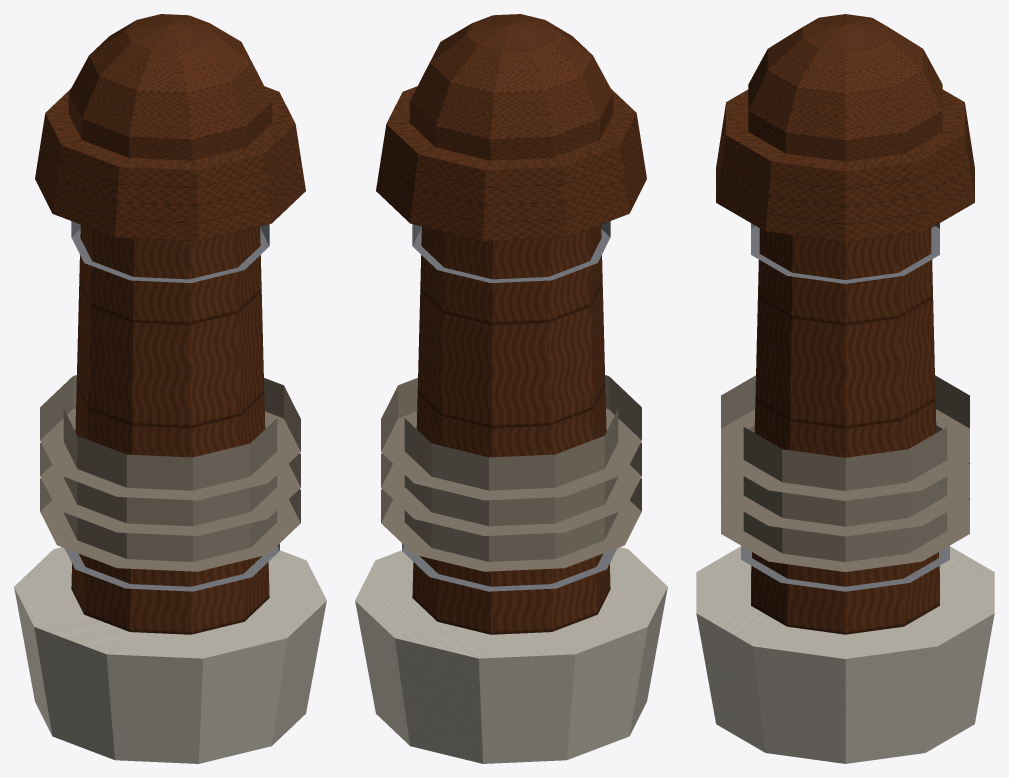
File: pirate-port-and-tall-ships-quay-bollard-post-0d4fa33b__30138.glb
3 renders of one model, left to right at view 1: azimuth 30°, elevation 25°; view 2: azimuth 150°, elevation 25°; view 3: azimuth 270°, elevation 25°, orthographic.
Parts seen in each view (by area): view 1: quay-bollard-post; view 2: quay-bollard-post; view 3: quay-bollard-post.
Boxes of the visible parts, <box> form: quay-bollard-post: <box>14,14,326,763</box>; quay-bollard-post: <box>355,14,667,763</box>; quay-bollard-post: <box>696,14,994,763</box>.
Size of the model in its own units: 0.6 by 1.44 by 0.5706.
4 materials, 2 textured.
